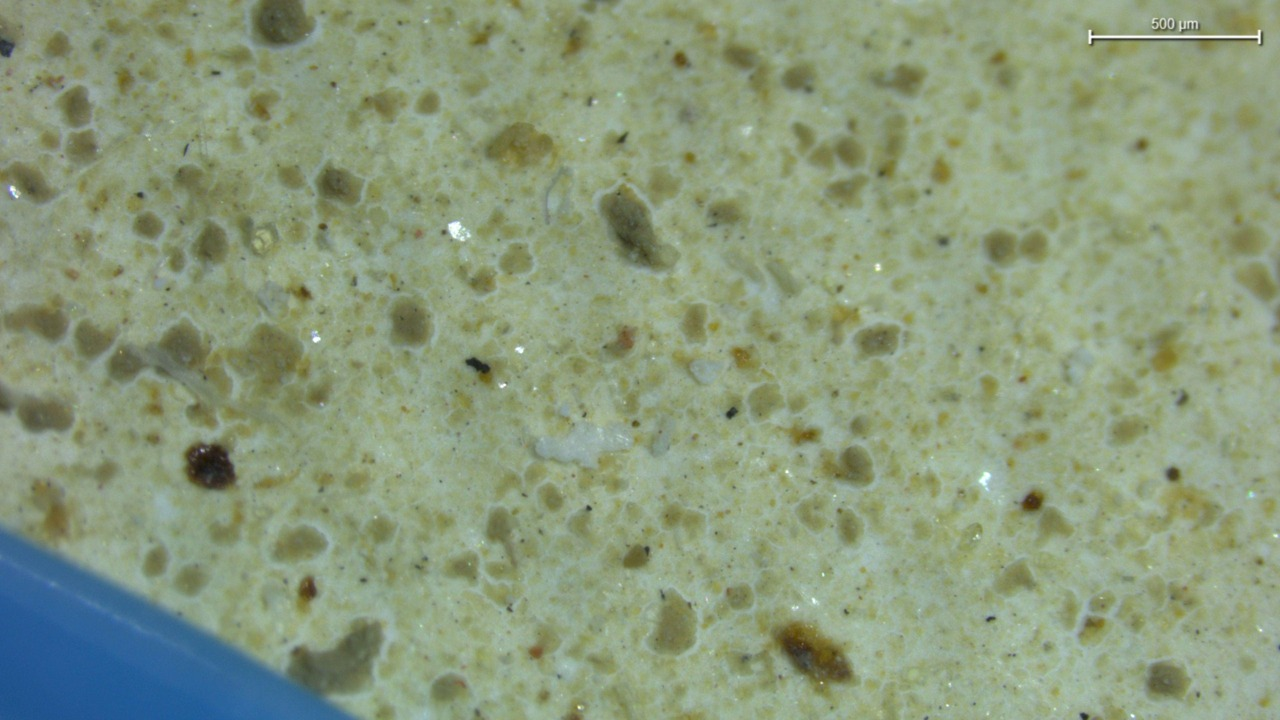microplastic_fragment: (535, 422, 632, 466), (255, 281, 288, 315), (689, 359, 723, 384)
